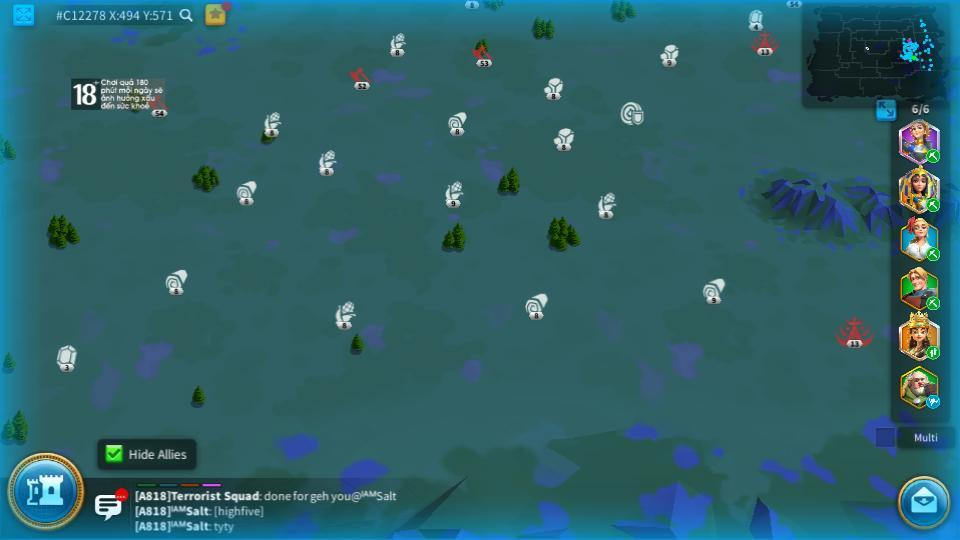gem-z-out: (53, 344, 78, 370), (746, 8, 765, 29)
march_farming: (925, 197, 941, 212)
march_idle: (925, 396, 941, 408)
march_marching: (925, 345, 941, 359), (925, 148, 941, 161)
